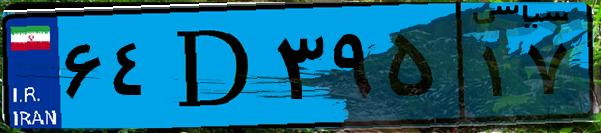1: (475, 38, 525, 113)
3: (270, 28, 330, 110)
4: (110, 28, 158, 98)
5: (385, 28, 445, 110)
6: (57, 26, 110, 100)
7: (525, 38, 570, 115)
9: (330, 28, 385, 110)
D: (158, 12, 270, 120)
